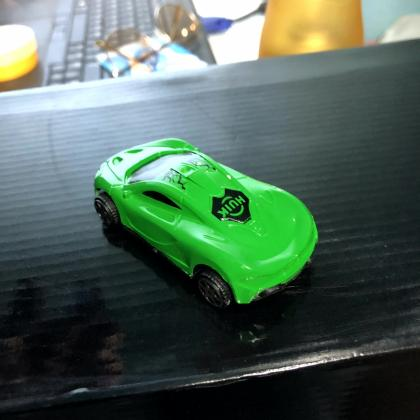Car: (93, 137, 319, 312)
